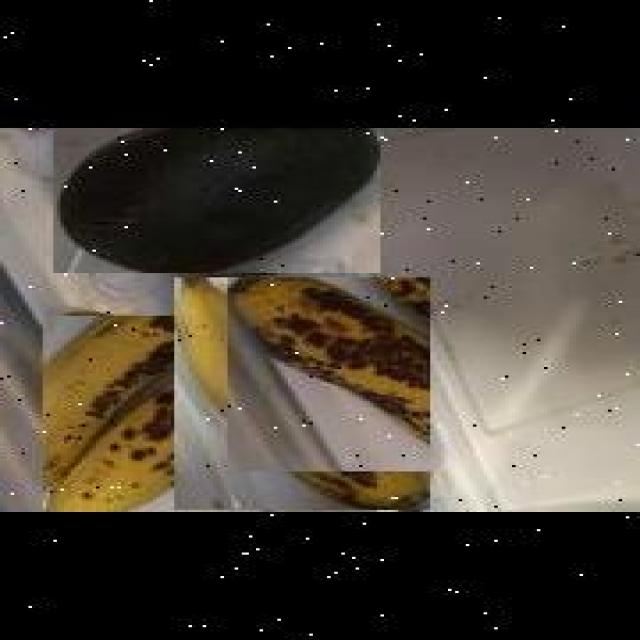avocado: (50, 128, 377, 273)
banana: (39, 316, 373, 512), (169, 277, 425, 510)
